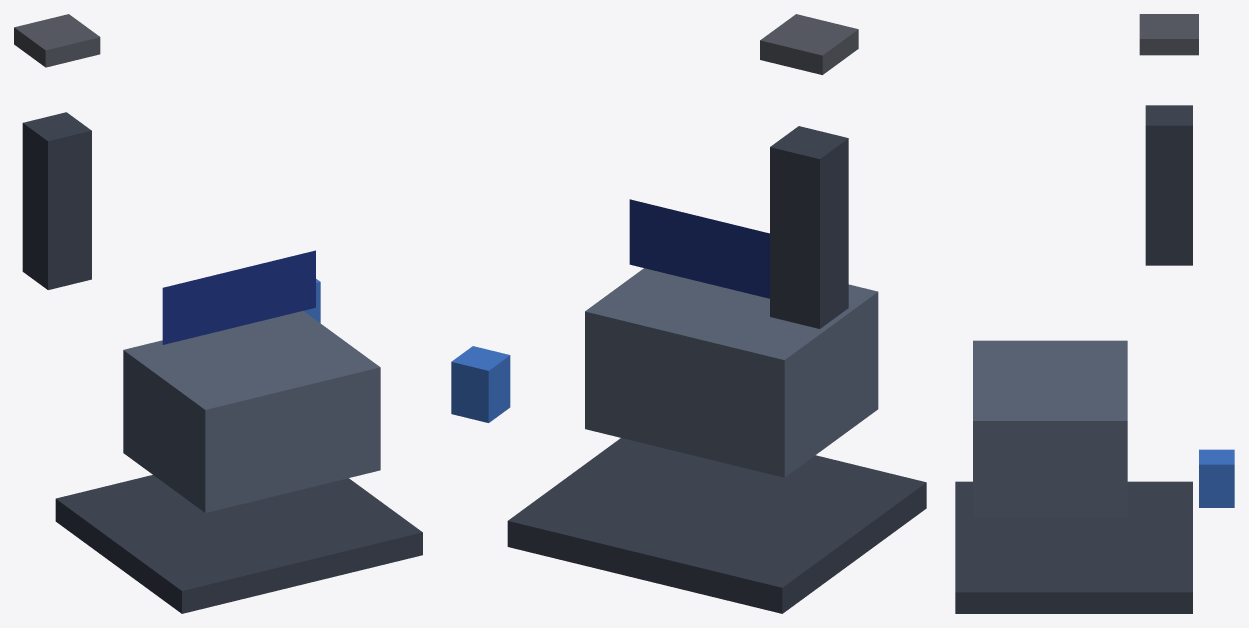
File: vanguard_forge.glb
3 renders of one model, left to right at view 1: azimuth 30°, elevation 25°; view 2: azimuth 150°, elevation 25°; view 3: azimuth 270°, elevation 25°, orthographic. The views are drawn at different scales.
Visible parts, largest first — view 1: vanguard_forge; view 2: vanguard_forge; view 3: vanguard_forge.
Part boxes in pixels (x1=…): vanguard_forge: x1=14, y1=14, x2=422, y2=613; vanguard_forge: x1=451, y1=14, x2=926, y2=613; vanguard_forge: x1=955, y1=14, x2=1234, y2=613.
Size of the model in its own units: 28 by 43.75 by 23.5.
